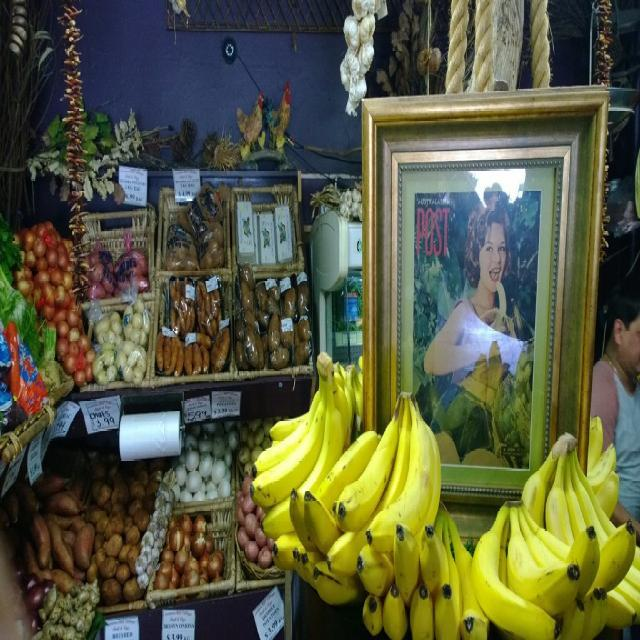Banana: (248, 349, 640, 640), (469, 449, 640, 623), (334, 398, 399, 534)
